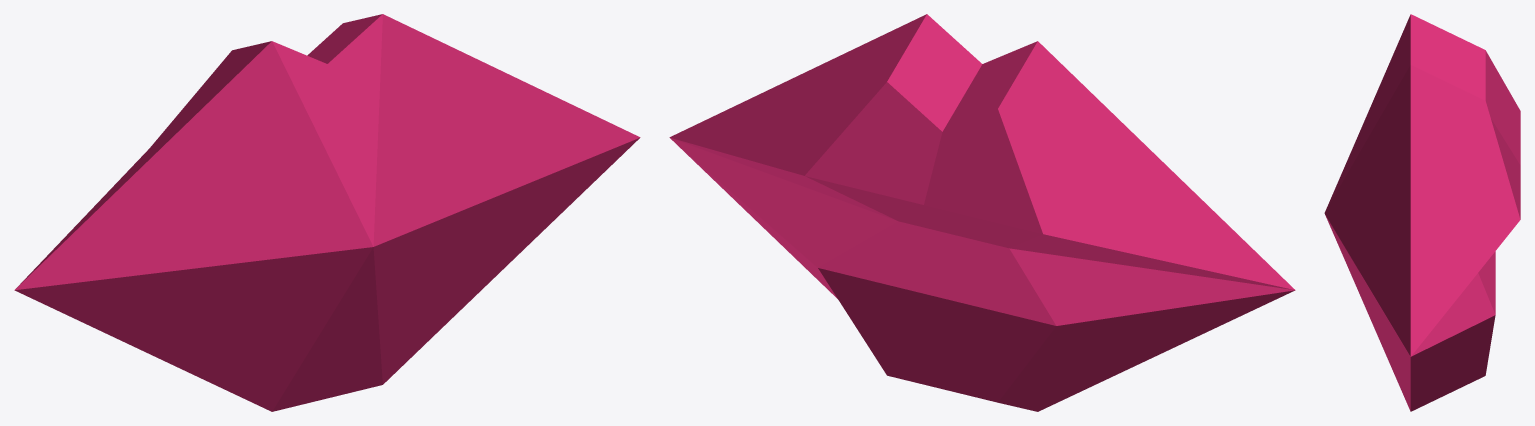
Rendered from Lips.glb.
The picture shows the model from 3 angles, left to right: view 1: azimuth 30°, elevation 25°; view 2: azimuth 150°, elevation 25°; view 3: azimuth 270°, elevation 25°; orthographic projection. The views are drawn at different scales.
Parts seen in each view (by area): view 1: lips NOUN; view 2: lips NOUN; view 3: lips NOUN.
Part boxes in pixels (x1,y1,x2,y2): lips NOUN: (14, 14, 640, 411); lips NOUN: (669, 14, 1295, 411); lips NOUN: (1324, 14, 1520, 411).
Size of the model in its own units: 6.43 by 3.64 by 1.86.
Materials: 1 (1 with a texture image).
